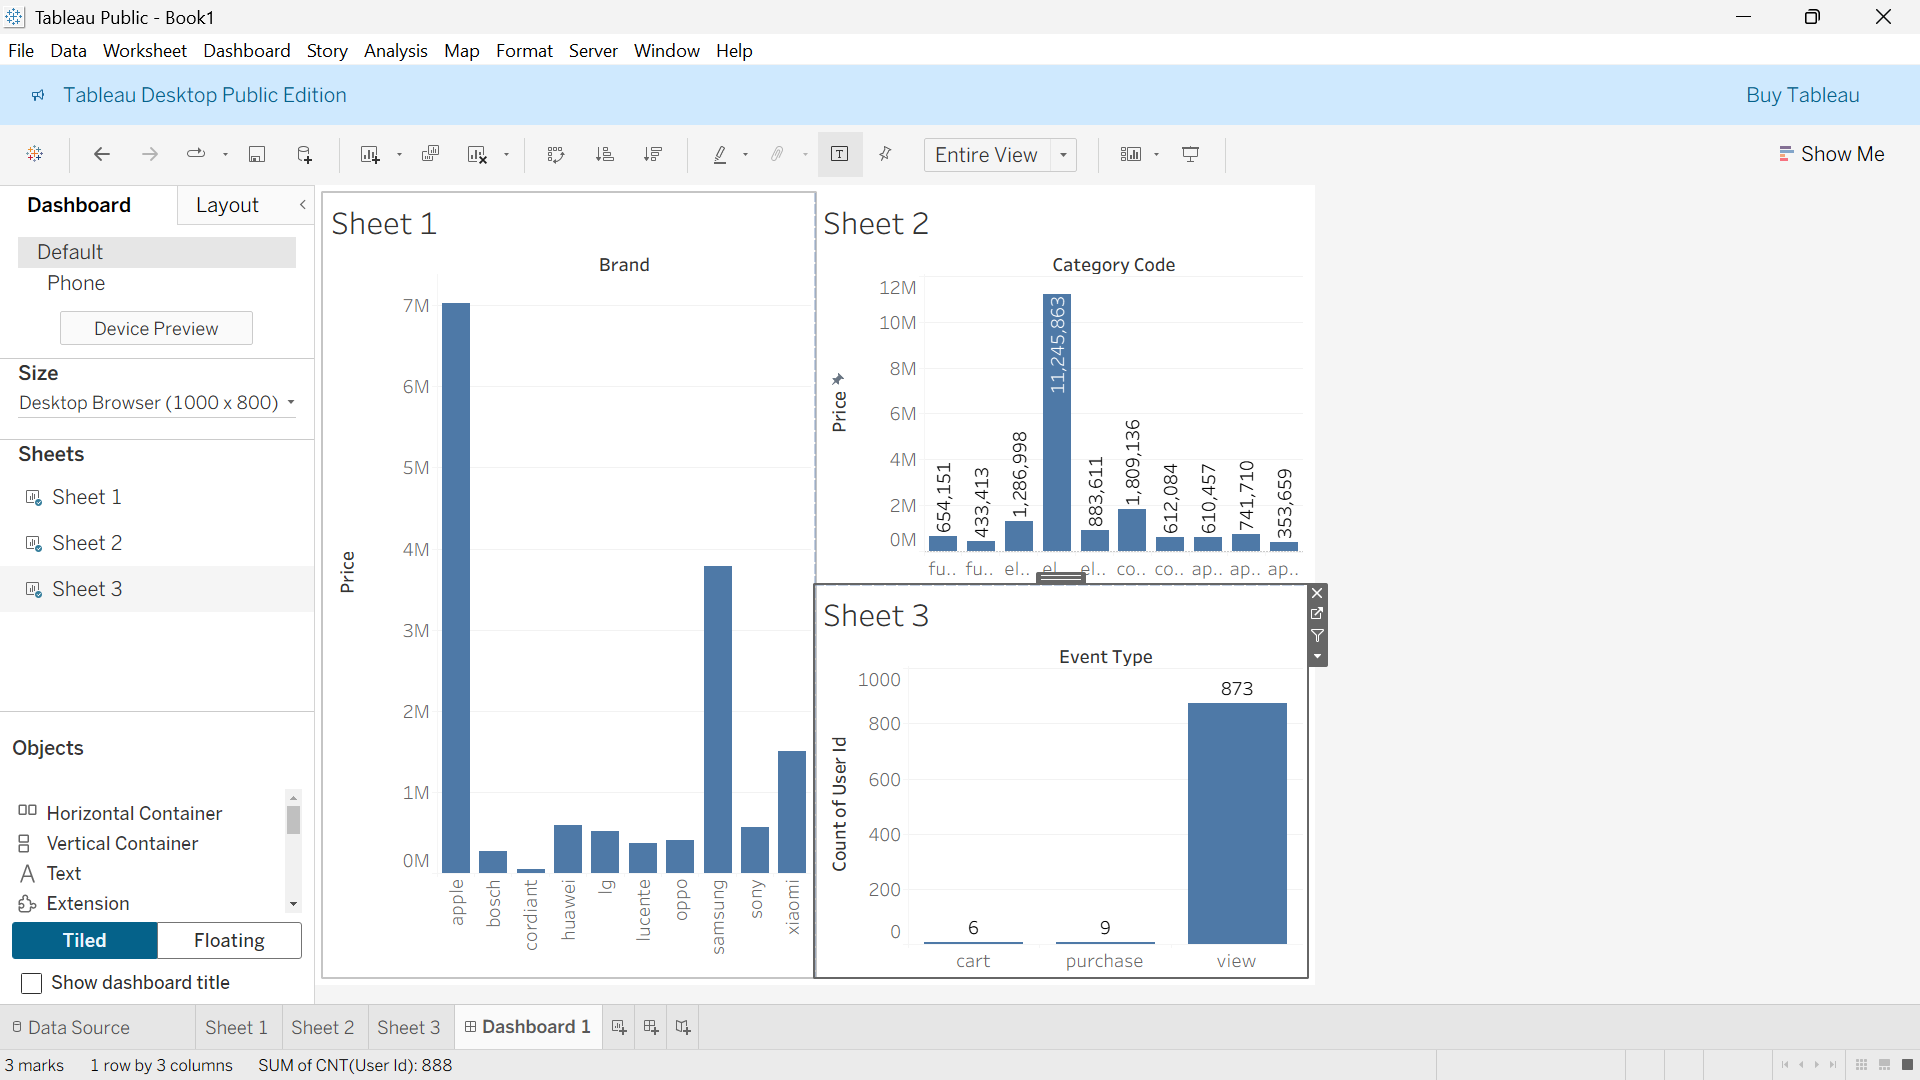

The dashboard page shown, as its layout file describes it:
{"tool":"tableau","page":{"name":"Dashboard 1","canvas":[1000,800],"ordinal":0},"visuals":[{"type":"worksheet","title":"Sheet 1","mark":"Automatic","rows":["price"],"cols":["brand"],"box":[8,8,492,784]},{"type":"worksheet","title":"Sheet 2","mark":"Automatic","rows":["price"],"cols":["category_code"],"box":[500,8,492,392]},{"type":"worksheet","title":"Sheet 3","mark":"Automatic","rows":["user_id"],"cols":["event_type"],"box":[500,400,492,392]}]}

Visuals, with their boxes on the page's 1000x800 design canvas (x1, y1, x2, y2). These are canvas units, not pixel positions in the 1920x1080 screenshot, which may show the page scaled, cropped or inside an application window:
"Sheet 1" worksheet: 8:8:500:792
"Sheet 2" worksheet: 500:8:992:400
"Sheet 3" worksheet: 500:400:992:792
